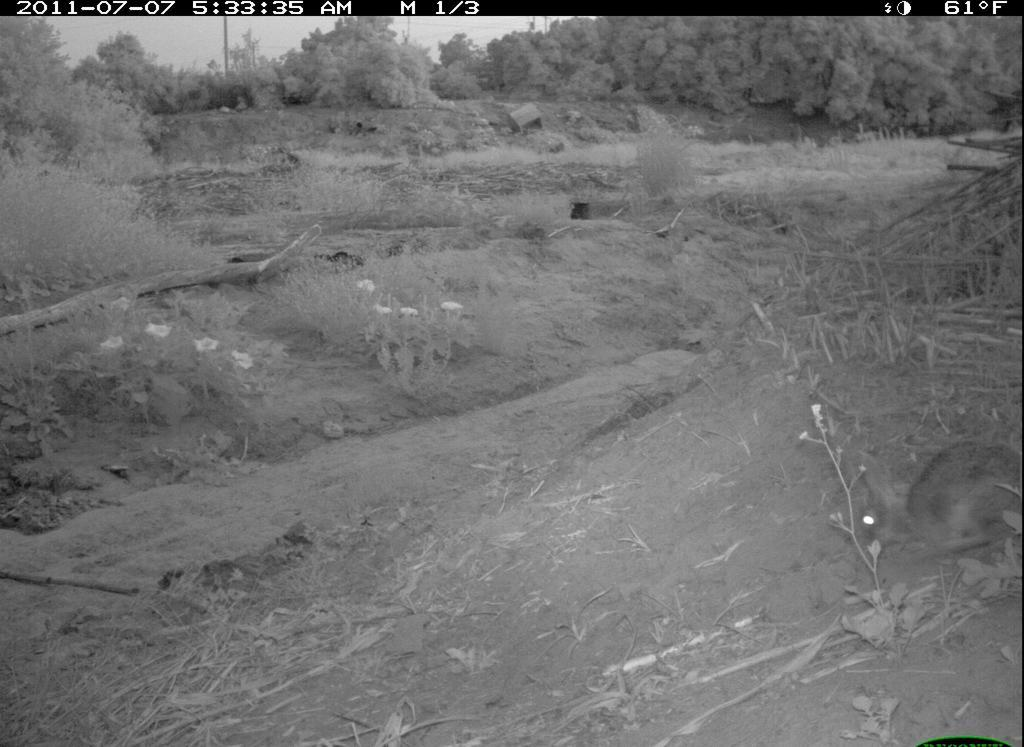rabbit: (850, 417, 1023, 562)
